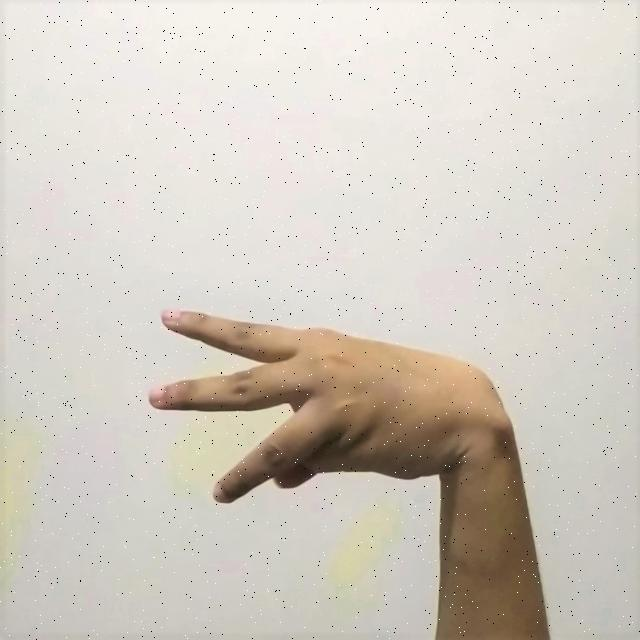E: (138, 300, 525, 512)
